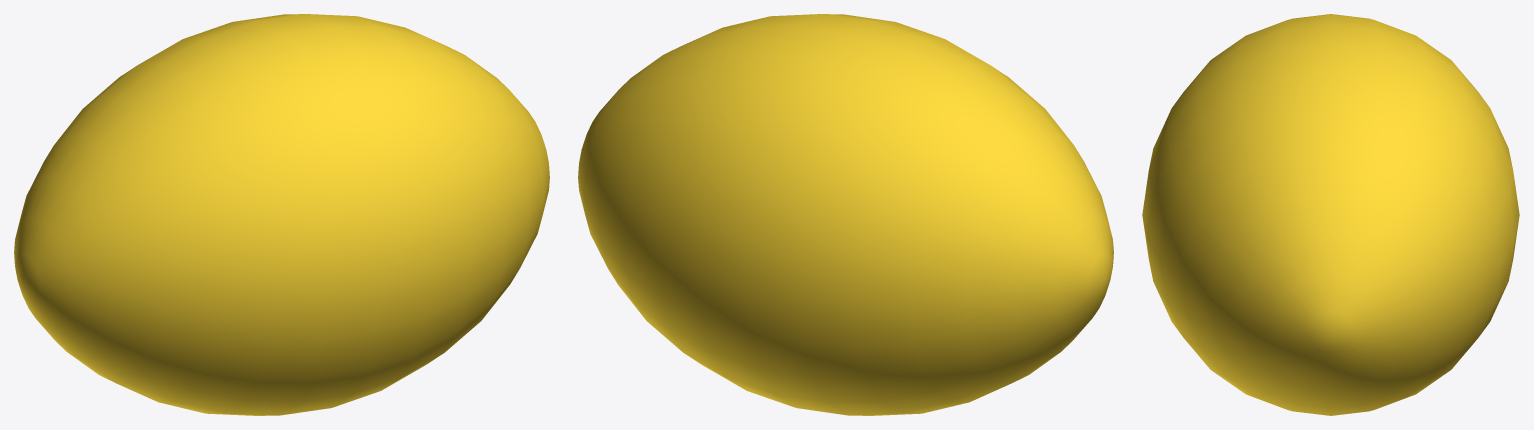
The model's file is Lemon.fbx.
3 renders of one model, left to right at view 1: azimuth 30°, elevation 25°; view 2: azimuth 150°, elevation 25°; view 3: azimuth 270°, elevation 25°, orthographic. The views are drawn at different scales.
Parts seen in each view (by area): view 1: Lemon; view 2: Lemon; view 3: Lemon.
Boxes of the visible parts, left/top/right/bottom form: Lemon: left=14, top=14, right=549, bottom=415; Lemon: left=578, top=14, right=1113, bottom=415; Lemon: left=1142, top=14, right=1519, bottom=415.
Size of the model in its own units: 0.09 by 0.06 by 0.06.
